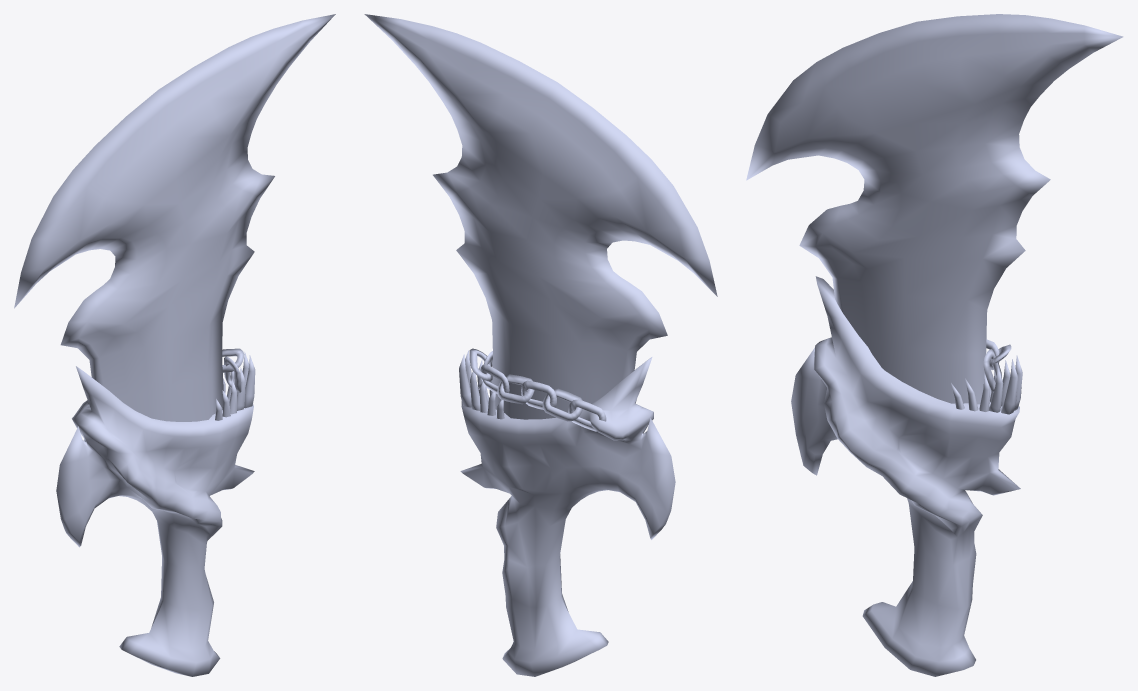
The model's file is Blades.fbx.
The picture shows the model from 3 angles, left to right: view 1: azimuth 30°, elevation 25°; view 2: azimuth 150°, elevation 25°; view 3: azimuth 330°, elevation 25°; orthographic projection. The views are drawn at different scales.
Parts seen in each view (by area): view 1: man_chaos_sword.smd; view 2: man_chaos_sword.smd; view 3: man_chaos_sword.smd.
Boxes of the visible parts, box(x1,y1,x2,y2) form: man_chaos_sword.smd: box(14, 14, 335, 676); man_chaos_sword.smd: box(364, 14, 717, 676); man_chaos_sword.smd: box(746, 14, 1123, 676).
Bounding box in the file's own units: 31.38 × 55.21 × 8.06.
